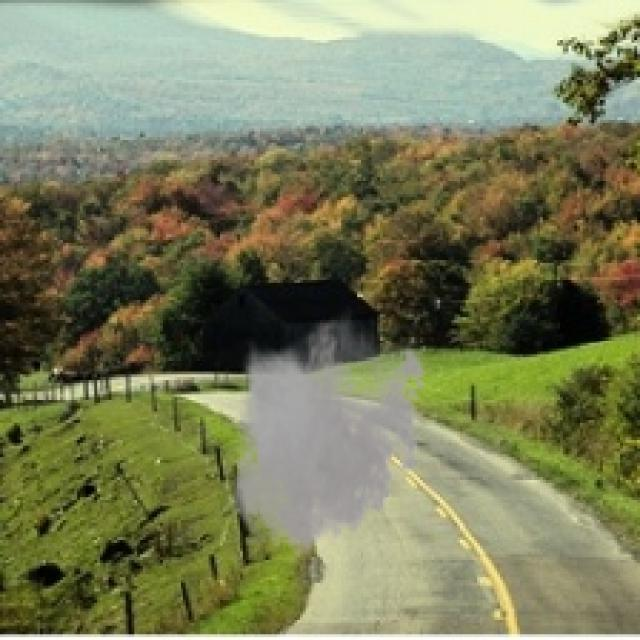Smoke: (226, 306, 431, 566)
